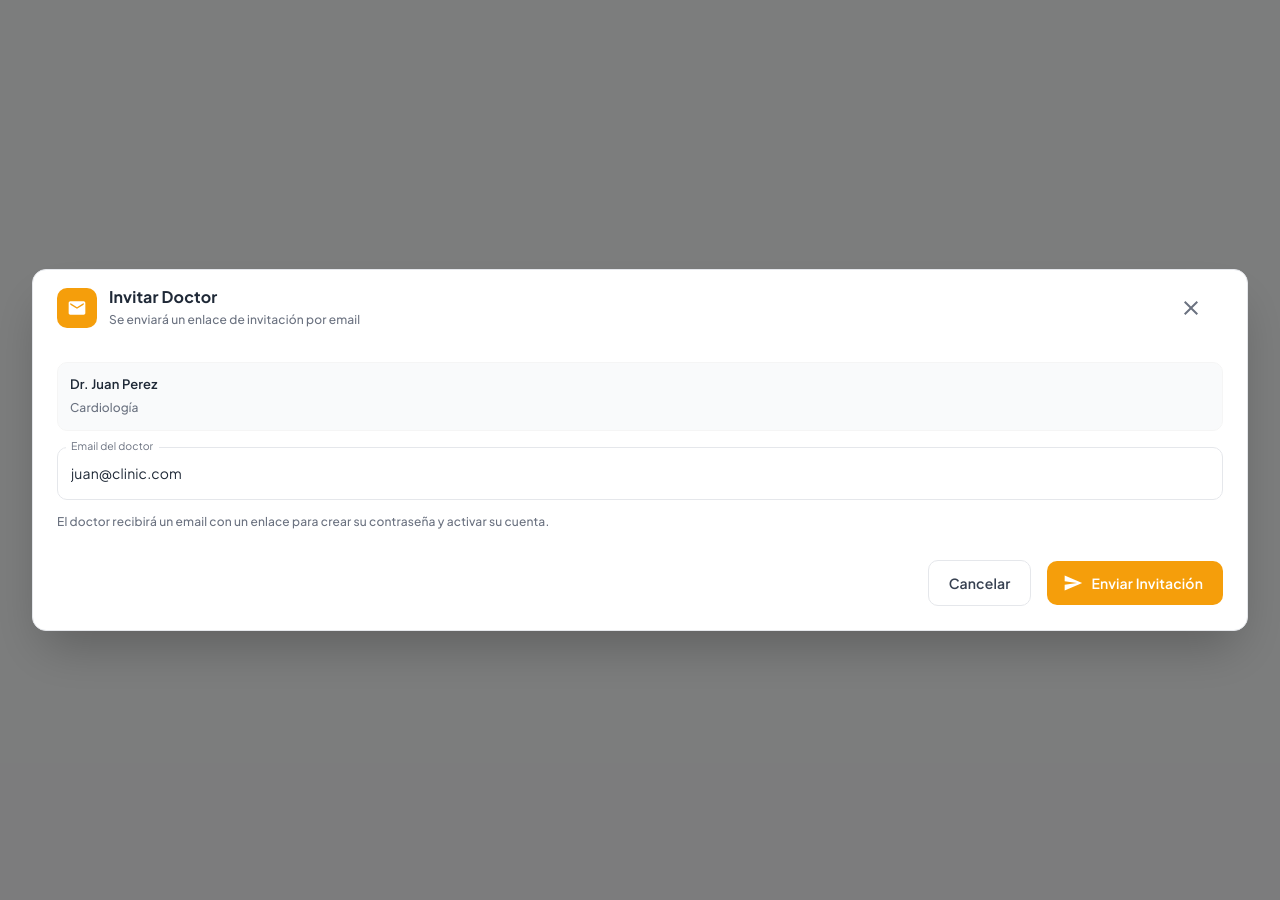
it: InviteDoctorDialog › shows a validation error for an invalid email
Clear the field labelled "Email del doctor" at (640, 473), box [57,447,1223,500]
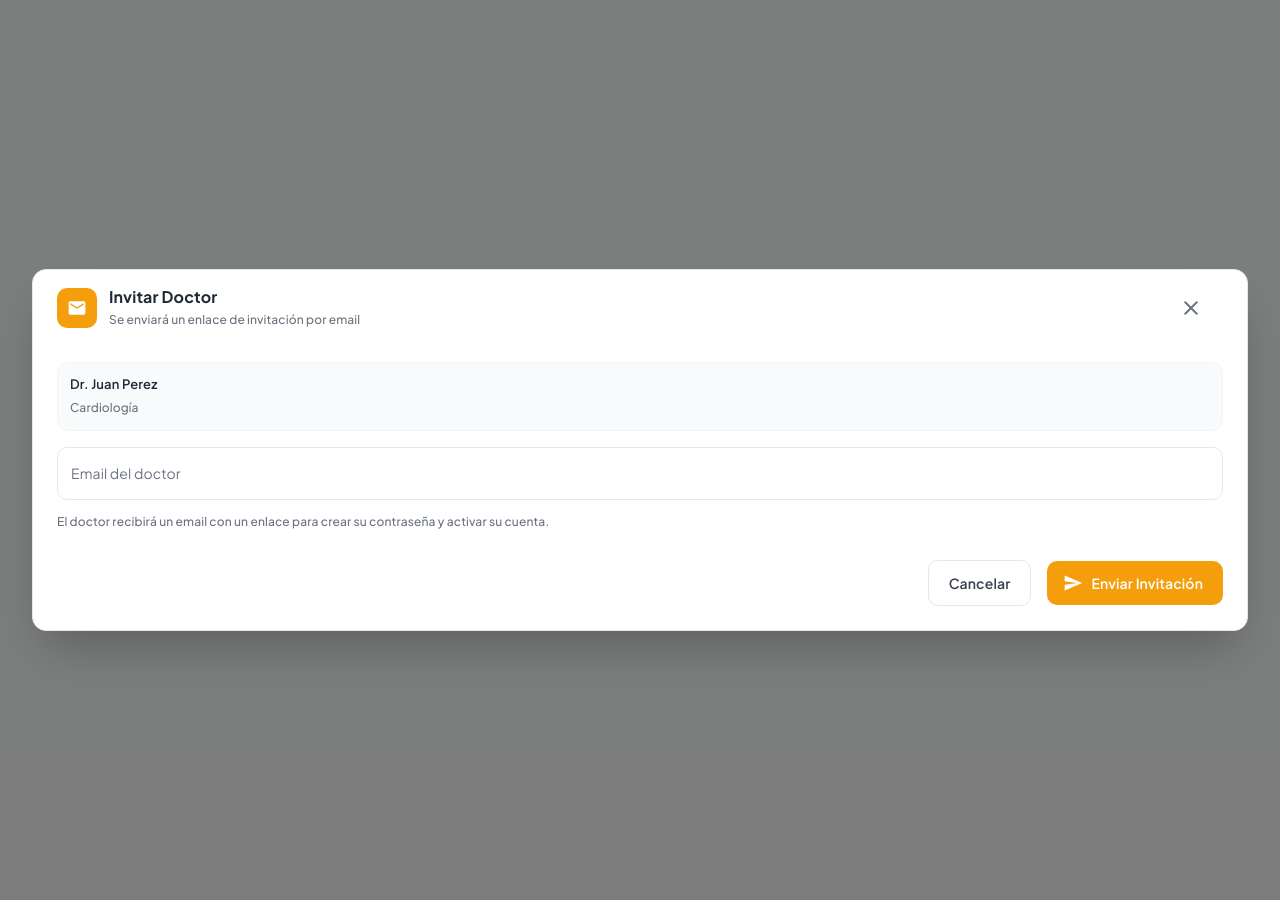
Click the button "Enviar Invitación" at (1135, 583), box [1047,561,1223,605]
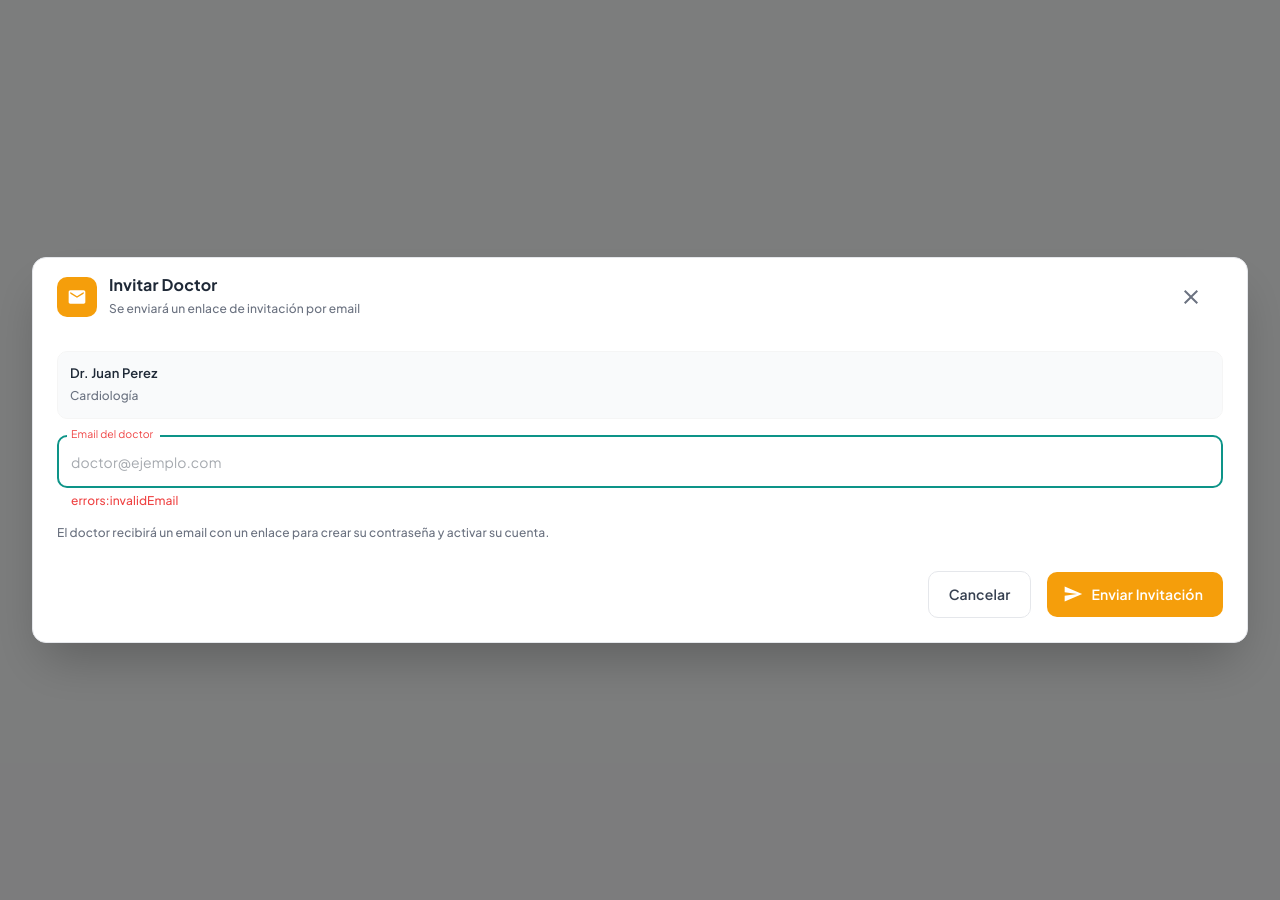
Now the text "errors:invalidEmail" is shown, box [71,493,178,508]
